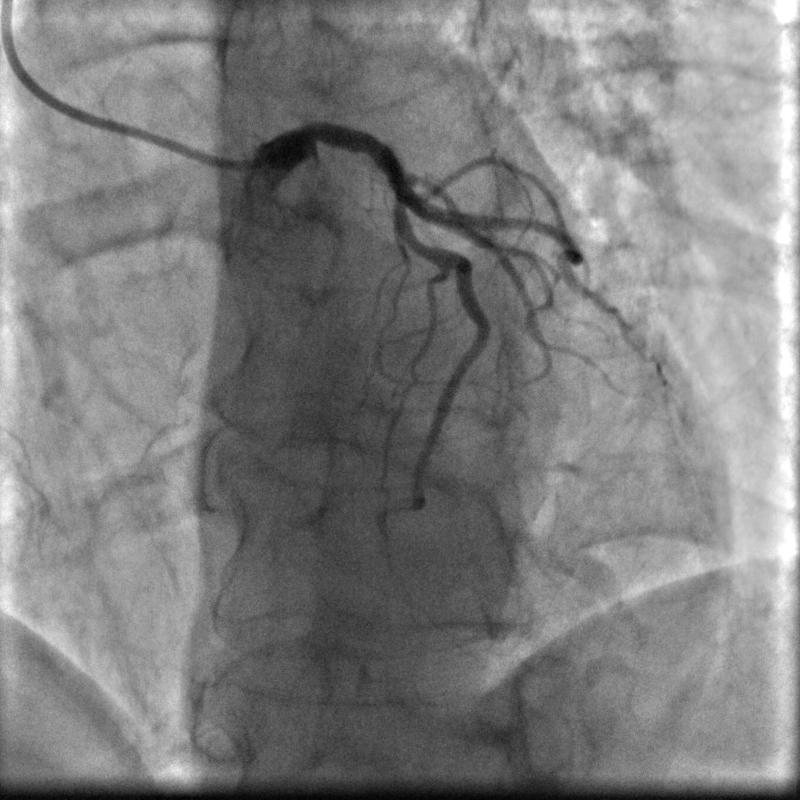Stenosis: (403, 232, 433, 256)
